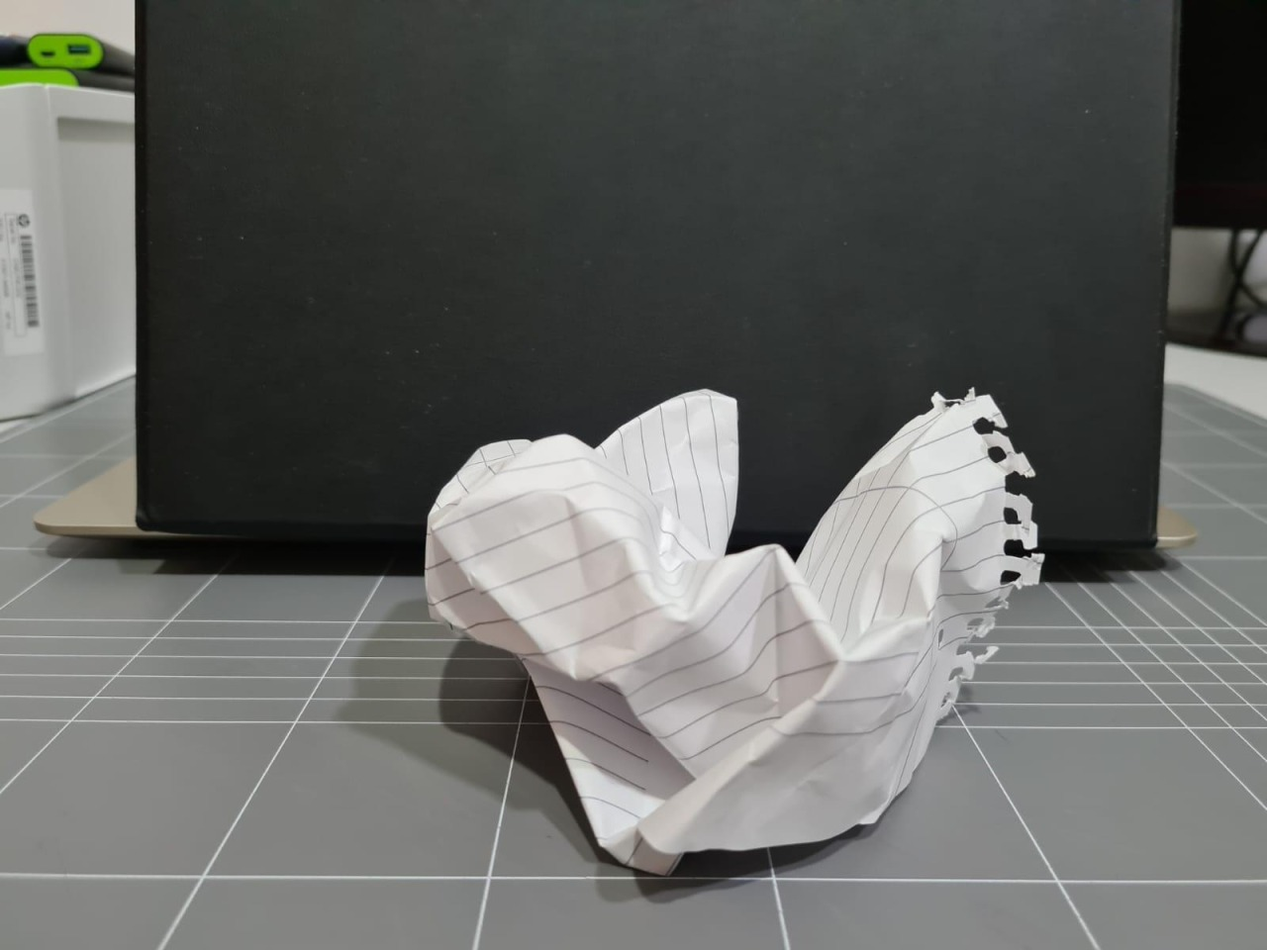paper: (422, 404, 1044, 839)
